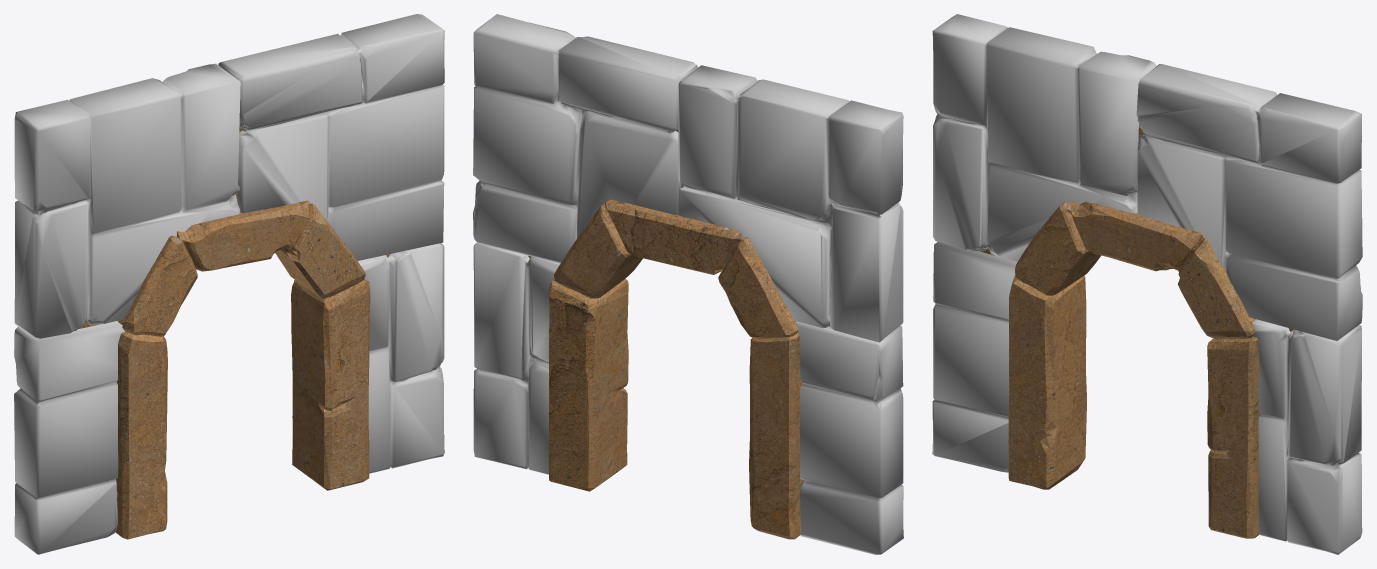
The model's file is BigWallWithArc.gltf.
The picture shows the model from 3 angles, left to right: view 1: azimuth 30°, elevation 25°; view 2: azimuth 150°, elevation 25°; view 3: azimuth 330°, elevation 25°; orthographic projection.
Visible parts, largest first — view 1: WallWithArc; view 2: WallWithArc; view 3: WallWithArc.
Boxes of the visible parts, left/top/right/bottom form: WallWithArc: left=14, top=14, right=444, bottom=554; WallWithArc: left=473, top=14, right=903, bottom=554; WallWithArc: left=932, top=14, right=1362, bottom=554.
Size of the model in its own units: 4 by 4 by 0.6424.
